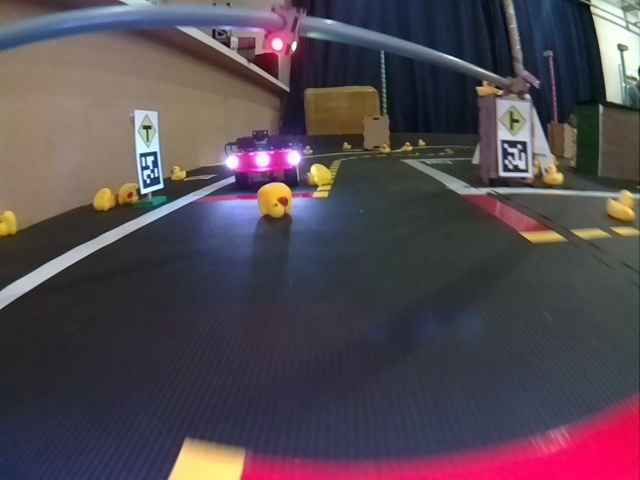Duckie: (258, 182, 292, 215), (609, 190, 633, 223), (1, 208, 20, 237), (543, 164, 564, 186), (309, 164, 330, 185), (95, 191, 116, 210), (119, 186, 136, 205), (171, 168, 185, 179), (304, 144, 313, 153), (381, 146, 389, 154), (345, 144, 352, 151), (420, 140, 427, 146), (403, 144, 409, 150)
Duckiebot: (225, 140, 305, 187)
Intersection sign: (497, 104, 528, 134), (137, 114, 158, 148)
QR code: (501, 139, 531, 174), (139, 152, 159, 187)
Traffic light: (268, 8, 302, 50)
